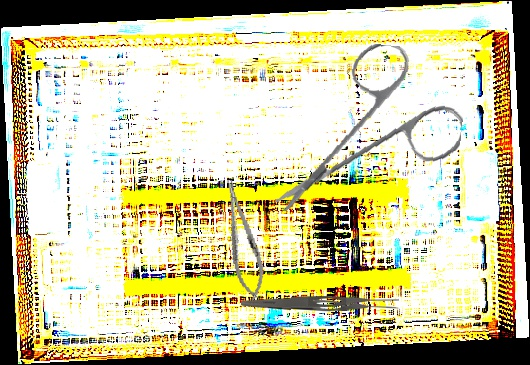Dressing Forceps: (240, 294, 400, 315)
Iris Scissors: (274, 35, 470, 229)
Needle Holder: (216, 176, 270, 303)
